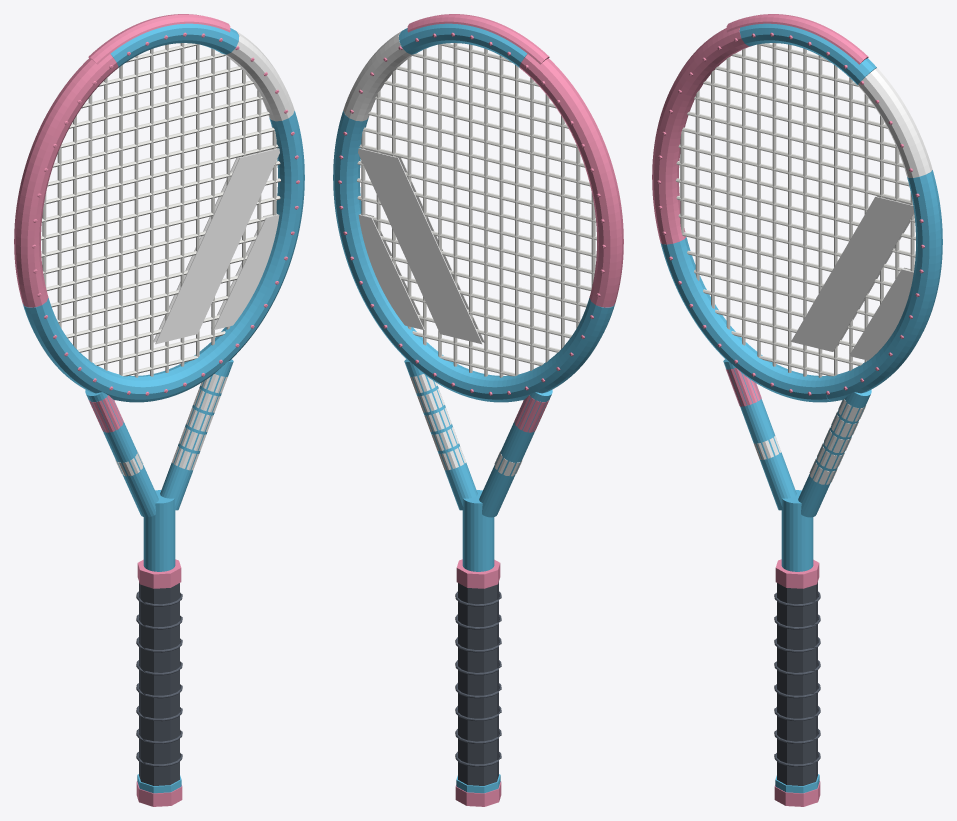
Rendered from head-gravity-mp.glb.
The picture shows the model from 3 angles, left to right: view 1: azimuth 30°, elevation 25°; view 2: azimuth 150°, elevation 25°; view 3: azimuth 330°, elevation 25°; orthographic projection.
Parts seen in each view (by area): view 1: strings, frame, stencil, frame_black, handle, frame_white, throat, shaft, wraps, collar, grommets, cap; view 2: strings, frame, stencil, frame_black, handle, frame_white, throat, shaft, wraps, collar, grommets, cap; view 3: strings, frame, stencil, frame_black, handle, frame_white, throat, shaft, wraps, collar, grommets, cap.
Part boxes in pixels (left/top/right/bottom): strings: left=41, top=43, right=280, bottom=377; frame: left=23, top=23, right=304, bottom=402; stencil: left=153, top=148, right=279, bottom=344; frame_black: left=14, top=14, right=230, bottom=432; handle: left=139, top=582, right=179, bottom=785; frame_white: left=115, top=31, right=294, bottom=476; throat: left=85, top=359, right=233, bottom=517; shaft: left=143, top=490, right=175, bottom=571; wraps: left=136, top=591, right=182, bottom=766; collar: left=137, top=559, right=181, bottom=588; grommets: left=32, top=32, right=299, bottom=395; cap: left=136, top=781, right=182, bottom=806; strings: left=357, top=43, right=596, bottom=377; frame: left=333, top=23, right=614, bottom=402; stencil: left=358, top=148, right=484, bottom=344; frame_black: left=407, top=14, right=623, bottom=432; handle: left=458, top=582, right=498, bottom=785; frame_white: left=343, top=31, right=522, bottom=476; throat: left=404, top=359, right=552, bottom=517; shaft: left=462, top=490, right=494, bottom=571; wraps: left=455, top=591, right=501, bottom=766; collar: left=456, top=559, right=500, bottom=588; grommets: left=338, top=32, right=605, bottom=395; cap: left=455, top=781, right=501, bottom=806; strings: left=675, top=43, right=915, bottom=377; frame: left=660, top=23, right=942, bottom=402; stencil: left=791, top=196, right=914, bottom=360; frame_black: left=652, top=14, right=868, bottom=406; handle: left=777, top=582, right=817, bottom=785; frame_white: left=753, top=68, right=932, bottom=484; throat: left=723, top=359, right=871, bottom=517; shaft: left=781, top=490, right=813, bottom=571; wraps: left=774, top=591, right=820, bottom=766; collar: left=775, top=559, right=819, bottom=588; grommets: left=657, top=32, right=924, bottom=395; cap: left=774, top=781, right=820, bottom=806.
Size of the model in its own units: 0.272 by 0.7055 by 0.039.
